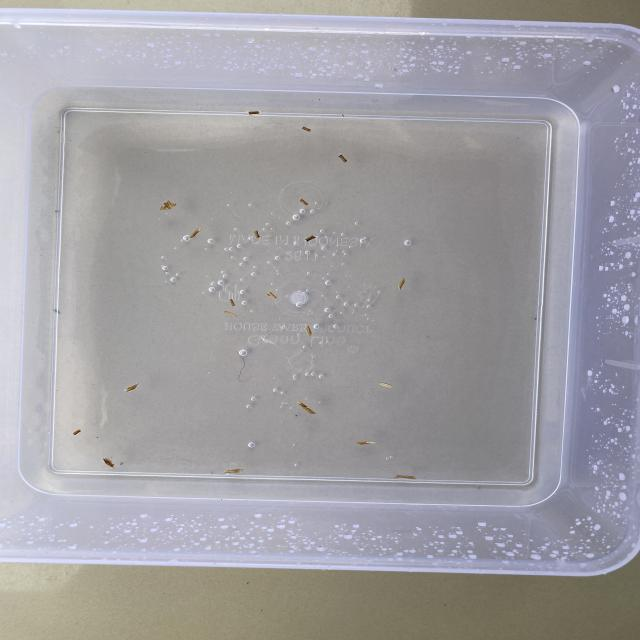Wereng: (293, 402, 320, 418), (219, 464, 244, 479), (162, 194, 180, 214), (357, 436, 384, 448), (262, 284, 280, 301), (98, 458, 125, 469), (298, 194, 316, 210), (126, 384, 145, 399), (186, 228, 208, 240), (219, 307, 241, 318), (219, 294, 237, 307), (392, 474, 421, 482), (396, 276, 407, 295), (244, 108, 270, 116), (337, 150, 349, 167), (250, 228, 264, 240), (382, 377, 393, 392), (71, 430, 87, 439), (305, 327, 316, 340), (298, 124, 312, 134), (307, 234, 318, 245)
